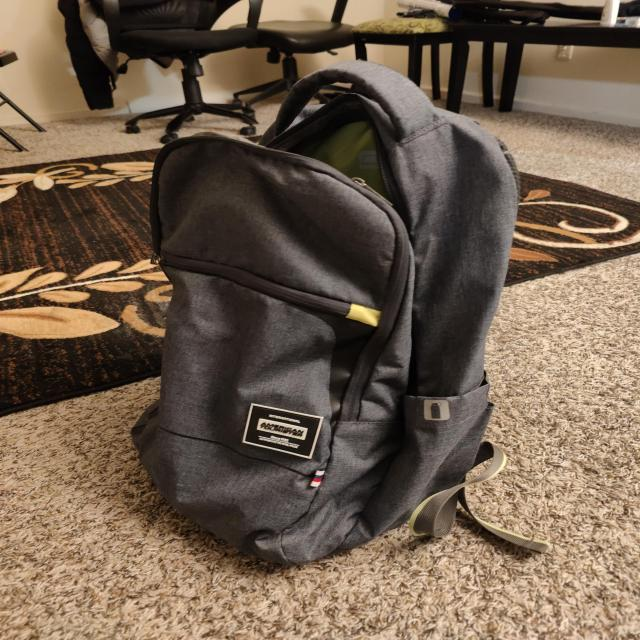bag: (152, 70, 509, 564)
